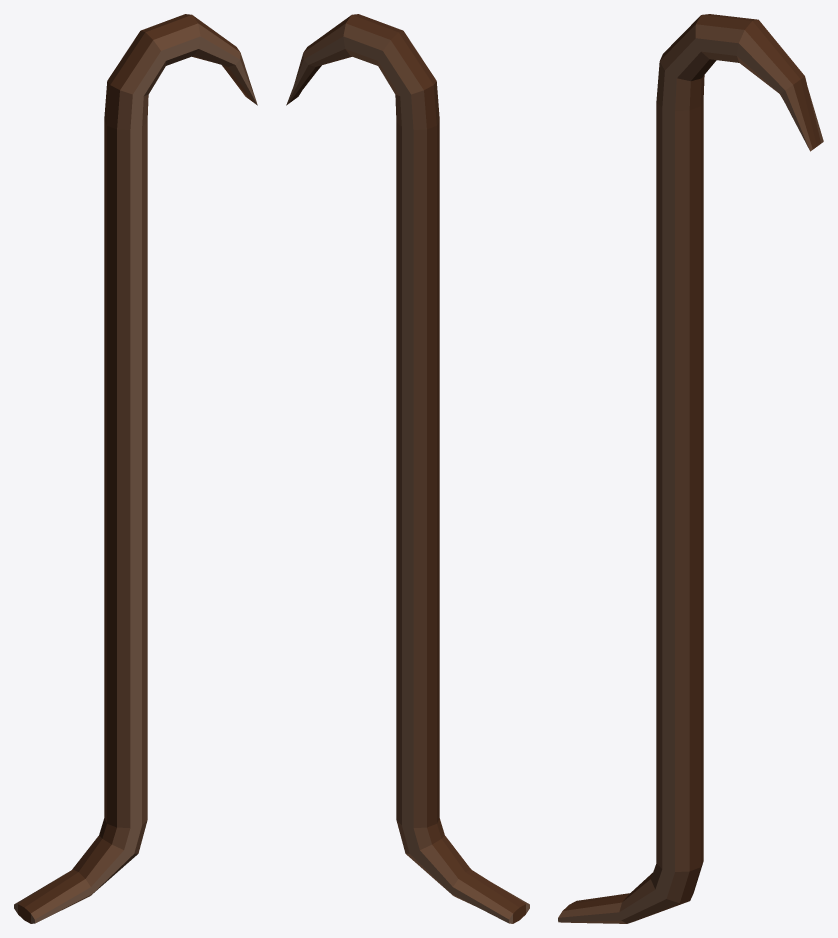
The model's file is Tool_Crowbar_01.fbx.
3 renders of one model, left to right at view 1: azimuth 30°, elevation 25°; view 2: azimuth 150°, elevation 25°; view 3: azimuth 330°, elevation 25°, orthographic. The views are drawn at different scales.
Parts seen in each view (by area): view 1: Tool_Crowbar_01; view 2: Tool_Crowbar_01; view 3: Tool_Crowbar_01.
Boxes of the visible parts, x1=… form: Tool_Crowbar_01: x1=14, y1=14, x2=257, y2=923; Tool_Crowbar_01: x1=286, y1=14, x2=529, y2=923; Tool_Crowbar_01: x1=558, y1=14, x2=823, y2=923.
Size of the model in its own units: 0.2125 by 0.7725 by 0.0336.
